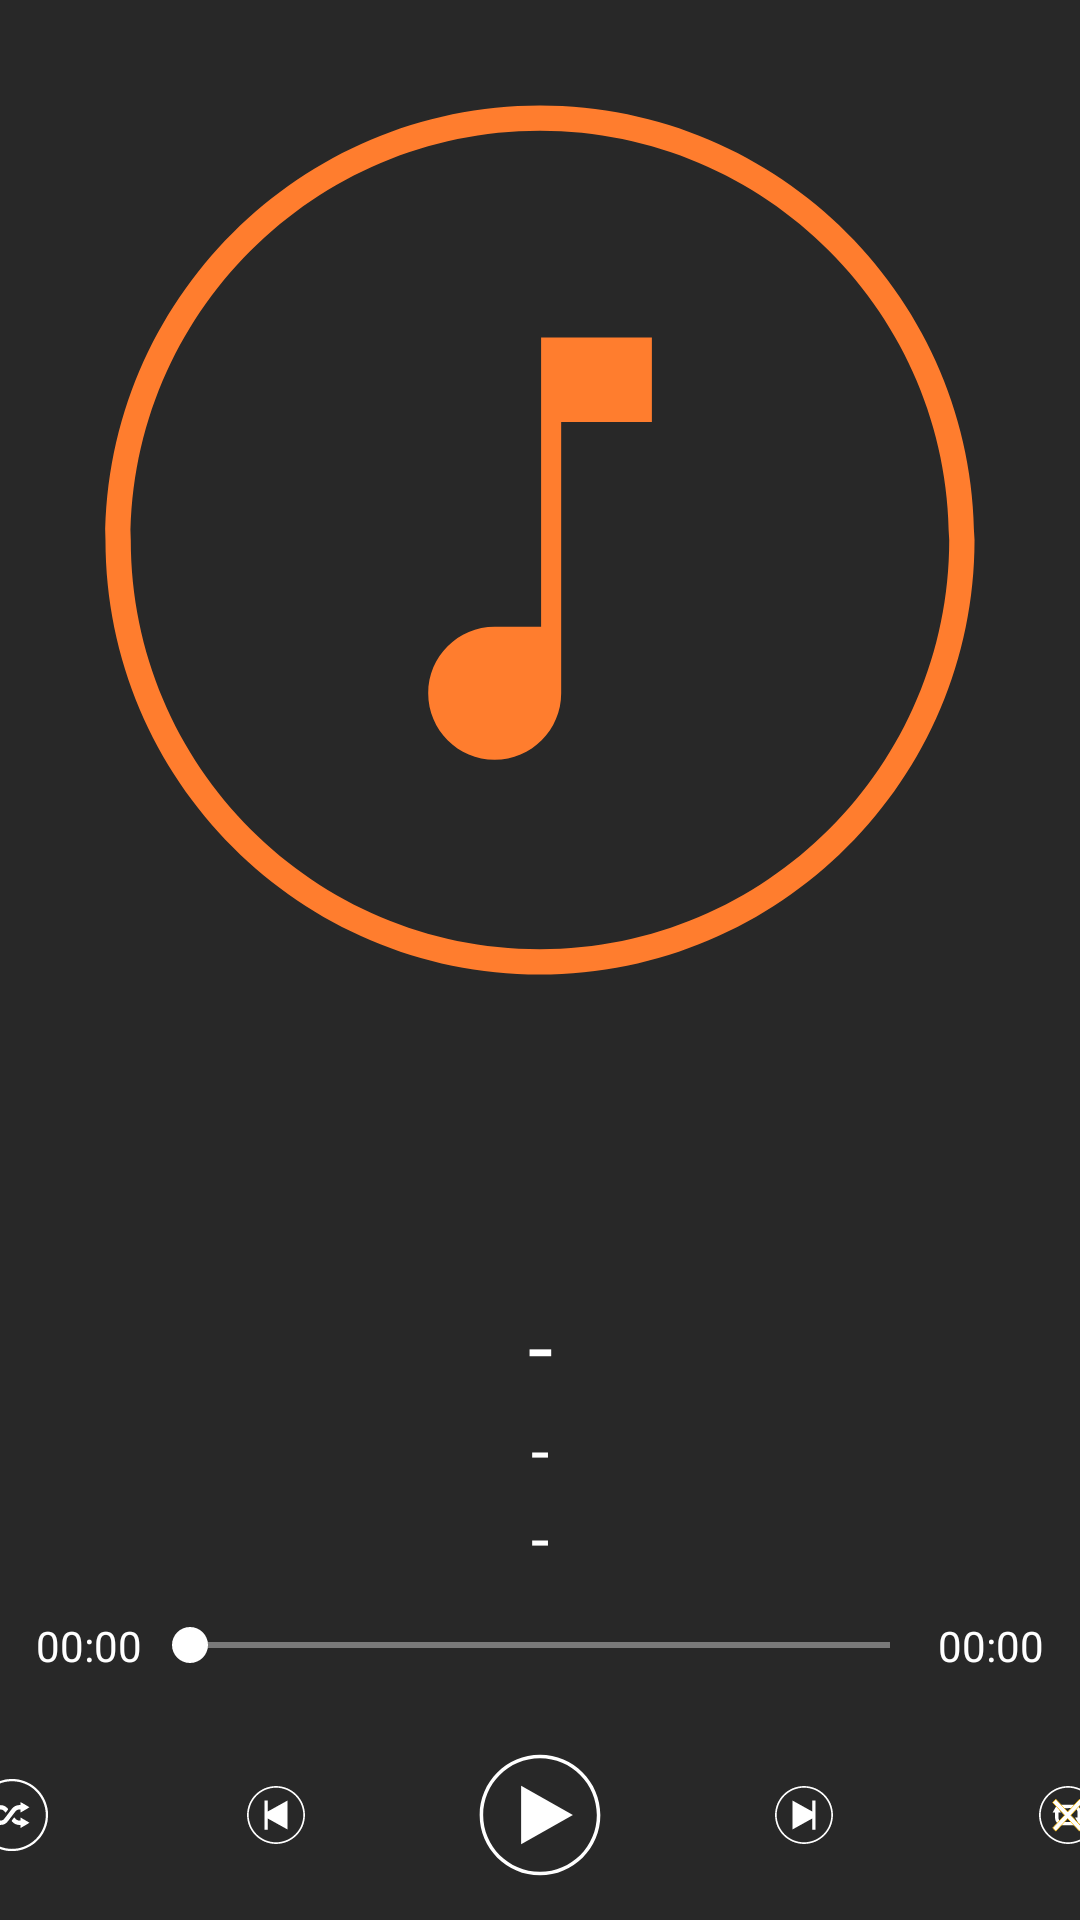

Where icons sit on this 1080w x 1920h app screen, as box(x1, y1, x2, y2):
bigplay: box(479, 1754, 601, 1876)
next: box(775, 1786, 833, 1844)
prev: box(247, 1786, 305, 1844)
